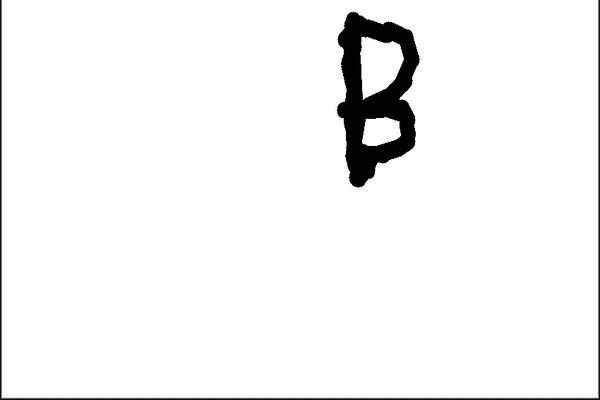B: (327, 5, 429, 194)
